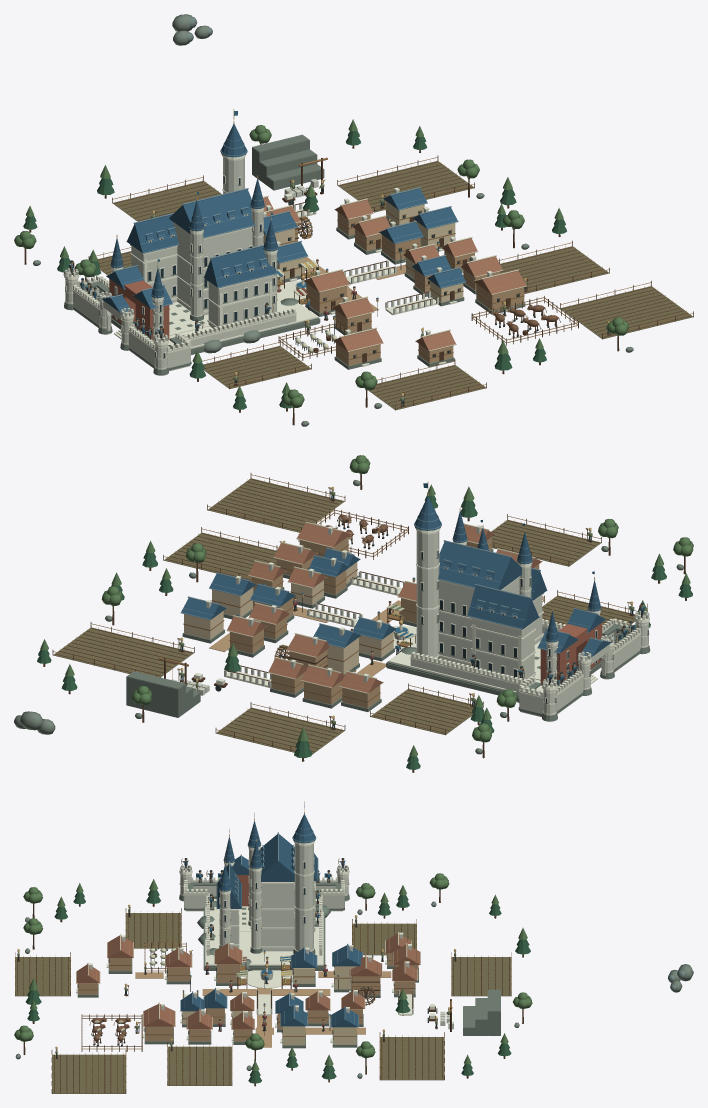
File: royal-castle-v5.glb
The picture shows the model from 3 angles, top to bottom: view 1: azimuth 30°, elevation 25°; view 2: azimuth 150°, elevation 25°; view 3: azimuth 270°, elevation 25°; orthographic projection. The views are drawn at different scales.
Visible parts, largest first — view 1: royal-castle-v5 Packed camp earth, royal-castle-v5 Alpine white limestone, royal-castle-v5 Blue slate roof, royal-castle-v5 Dark timber beams, royal-castle-v5 Carved ivory limestone, royal-castle-v5 Weathered foundation, royal-castle-v5 Terracotta village tiles, royal-castle-v5 Warm village plaster, royal-castle-v5 Forest new needles, royal-castle-v5 Warm cut timber, royal-castle-v5 Slate ridge caps, royal-castle-v5 Forest deep needles (+6 smaller); view 2: royal-castle-v5 Packed camp earth, royal-castle-v5 Alpine white limestone, royal-castle-v5 Blue slate roof, royal-castle-v5 Dark timber beams, royal-castle-v5 Carved ivory limestone, royal-castle-v5 Weathered foundation, royal-castle-v5 Terracotta village tiles, royal-castle-v5 Warm village plaster, royal-castle-v5 Forest new needles, royal-castle-v5 Ivory lime plaster, royal-castle-v5 Warm cut timber, royal-castle-v5 Forest deep needles (+5 smaller); view 3: royal-castle-v5 Packed camp earth, royal-castle-v5 Alpine white limestone, royal-castle-v5 Blue slate roof, royal-castle-v5 Carved ivory limestone, royal-castle-v5 Terracotta village tiles, royal-castle-v5 Warm village plaster, royal-castle-v5 Weathered foundation, royal-castle-v5 Dark timber beams, royal-castle-v5 Forest new needles, royal-castle-v5 Forest deep needles, royal-castle-v5 Warm cut timber, royal-castle-v5 Ivory lime plaster (+6 smaller).
Boxes of the visible parts, x1=… form: royal-castle-v5 Packed camp earth: x1=97, y1=161, x2=693, y2=410; royal-castle-v5 Alpine white limestone: x1=64, y1=157, x2=491, y2=371; royal-castle-v5 Blue slate roof: x1=101, y1=123, x2=465, y2=317; royal-castle-v5 Dark timber beams: x1=24, y1=143, x2=693, y2=425; royal-castle-v5 Carved ivory limestone: x1=64, y1=154, x2=509, y2=369; royal-castle-v5 Weathered foundation: x1=33, y1=14, x2=631, y2=426; royal-castle-v5 Terracotta village tiles: x1=263, y1=197, x2=526, y2=351; royal-castle-v5 Warm village plaster: x1=295, y1=212, x2=543, y2=365; royal-castle-v5 Forest new needles: x1=14, y1=119, x2=629, y2=407; royal-castle-v5 Warm cut timber: x1=71, y1=157, x2=693, y2=406; royal-castle-v5 Slate ridge caps: x1=101, y1=138, x2=466, y2=313; royal-castle-v5 Forest deep needles: x1=23, y1=130, x2=566, y2=409; royal-castle-v5 Packed camp earth: x1=53, y1=478, x2=635, y2=754; royal-castle-v5 Alpine white limestone: x1=171, y1=527, x2=649, y2=717; royal-castle-v5 Blue slate roof: x1=181, y1=496, x2=611, y2=669; royal-castle-v5 Dark timber beams: x1=43, y1=473, x2=686, y2=772; royal-castle-v5 Carved ivory limestone: x1=194, y1=525, x2=649, y2=715; royal-castle-v5 Weathered foundation: x1=14, y1=480, x2=683, y2=754; royal-castle-v5 Terracotta village tiles: x1=227, y1=523, x2=541, y2=693; royal-castle-v5 Warm village plaster: x1=209, y1=521, x2=539, y2=708; royal-castle-v5 Forest new needles: x1=40, y1=455, x2=693, y2=756; royal-castle-v5 Ivory lime plaster: x1=184, y1=562, x2=393, y2=674; royal-castle-v5 Warm cut timber: x1=53, y1=474, x2=647, y2=749; royal-castle-v5 Forest deep needles: x1=37, y1=495, x2=692, y2=769; royal-castle-v5 Packed camp earth: x1=15, y1=913, x2=511, y2=1093; royal-castle-v5 Alpine white limestone: x1=89, y1=843, x2=453, y2=1029; royal-castle-v5 Blue slate roof: x1=181, y1=813, x2=373, y2=1027; royal-castle-v5 Carved ivory limestone: x1=76, y1=840, x2=434, y2=1043; royal-castle-v5 Terracotta village tiles: x1=76, y1=933, x2=419, y2=1029; royal-castle-v5 Warm village plaster: x1=78, y1=953, x2=418, y2=1047; royal-castle-v5 Weathered foundation: x1=16, y1=863, x2=693, y2=1078; royal-castle-v5 Dark timber beams: x1=15, y1=861, x2=523, y2=1093; royal-castle-v5 Forest new needles: x1=14, y1=873, x2=532, y2=1070; royal-castle-v5 Forest deep needles: x1=25, y1=890, x2=530, y2=1083; royal-castle-v5 Warm cut timber: x1=15, y1=858, x2=511, y2=1088; royal-castle-v5 Ivory lime plaster: x1=182, y1=966, x2=356, y2=1045.
Size of the model in its own units: 50.78 by 19.17 by 73.64.
